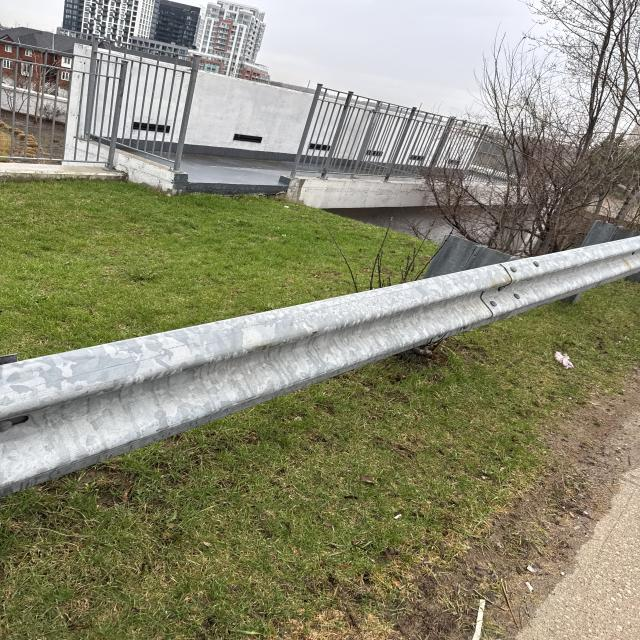Guard rail: (12, 249, 636, 434)
